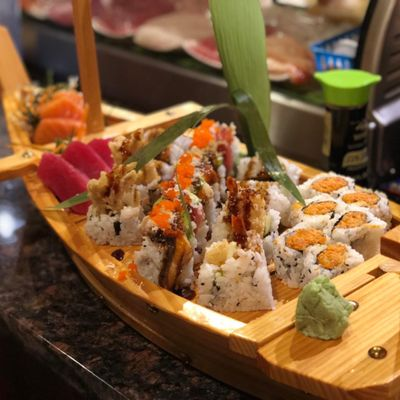curry: (294, 274, 359, 342)
sushi: (313, 68, 382, 109)
